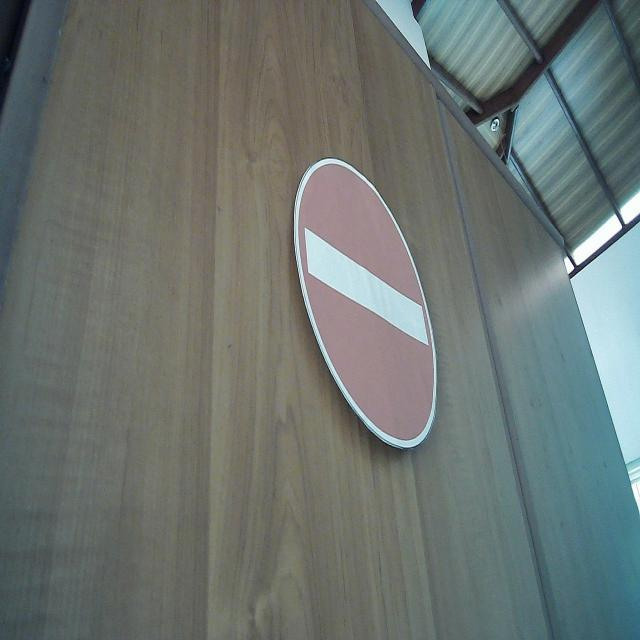no_entry: (292, 155, 439, 453)
